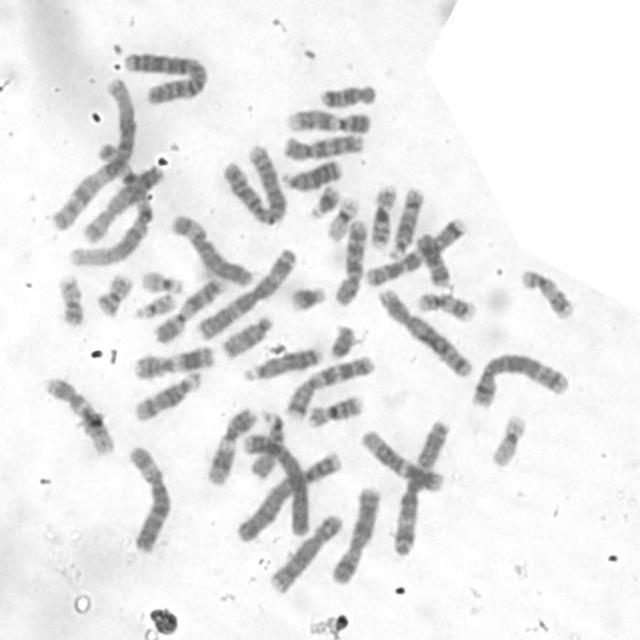A1: (52, 76, 136, 228), (70, 141, 153, 268)
A2: (219, 145, 288, 228), (123, 53, 208, 105)
A3: (197, 246, 297, 342), (391, 418, 452, 558)
B4: (236, 450, 342, 543), (244, 433, 310, 536)
B5: (376, 289, 472, 377), (468, 354, 568, 408)
C10: (333, 220, 367, 306), (283, 135, 364, 161)
C11: (206, 406, 258, 484), (132, 345, 214, 379)
C12: (40, 374, 116, 457), (358, 428, 444, 492)
C6: (170, 213, 254, 288), (123, 443, 172, 553)
C7: (364, 217, 465, 287), (283, 356, 375, 420)
C8: (269, 516, 346, 596), (84, 164, 161, 243)
C9: (156, 278, 225, 345), (286, 110, 371, 134)
D13: (244, 346, 322, 382), (282, 156, 342, 192)
D14: (133, 370, 202, 424), (389, 186, 423, 260)
D15: (247, 408, 287, 479), (221, 316, 273, 358)
E16: (306, 394, 363, 428), (369, 183, 397, 248)
E17: (522, 269, 576, 321), (418, 290, 476, 323)
E18: (414, 235, 452, 287), (319, 84, 376, 110)
F19: (489, 413, 532, 471), (326, 196, 362, 242)
F20: (94, 272, 136, 318), (57, 279, 86, 329)
G21: (310, 183, 346, 220), (287, 286, 326, 313)
G22: (134, 292, 180, 319), (140, 269, 184, 293)
X: (329, 486, 382, 588)
Y: (329, 323, 355, 359)
